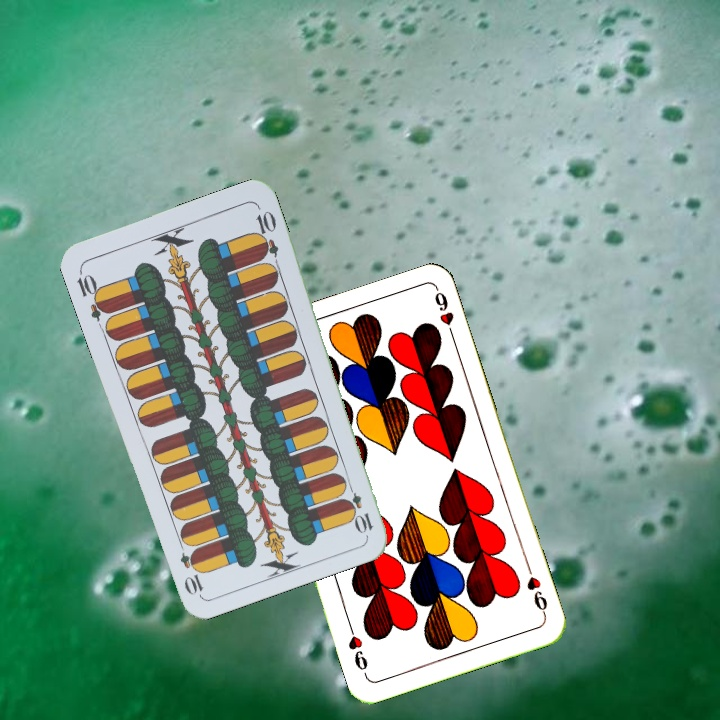E10: (72, 266, 112, 323), (341, 478, 376, 536)
H9: (522, 562, 550, 619)
